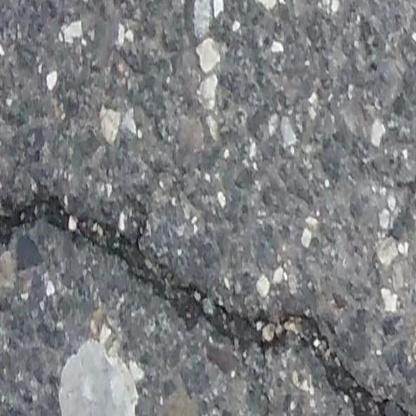Cracks: (0, 183, 416, 416), (251, 374, 277, 416)
